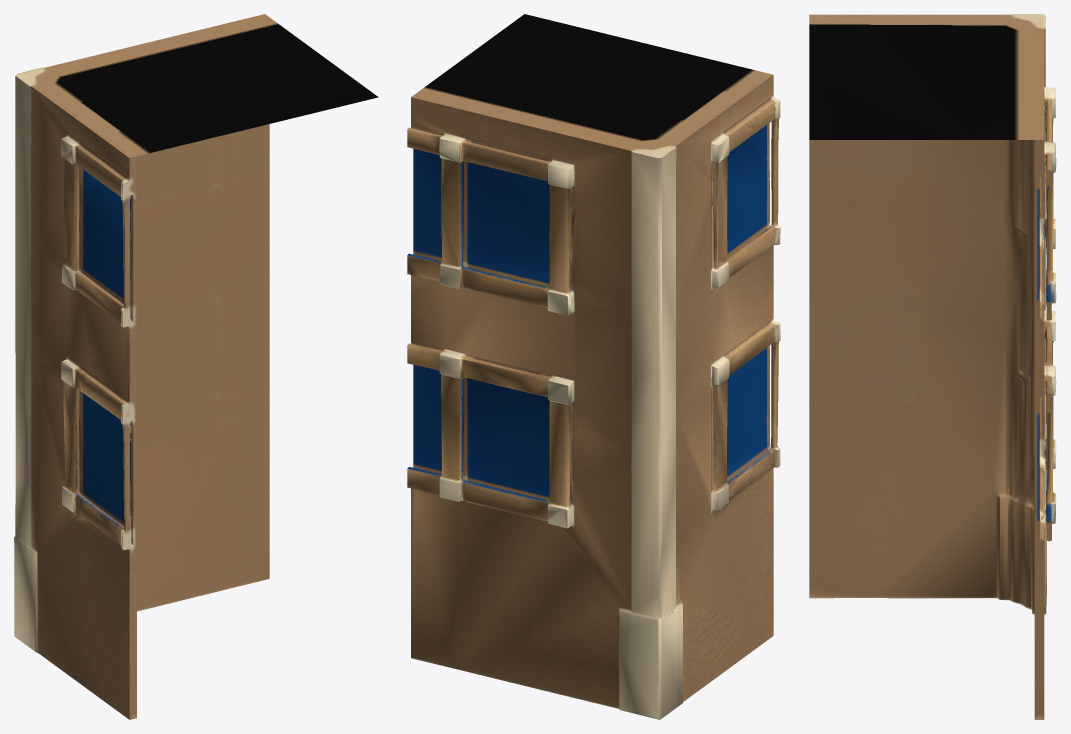
File: 3-ground-floor-back-left.fbx
The picture shows the model from 3 angles, left to right: view 1: azimuth 30°, elevation 25°; view 2: azimuth 150°, elevation 25°; view 3: azimuth 270°, elevation 25°; orthographic projection. The views are drawn at different scales.
Visible parts, largest first — view 1: ground-floor-back-left; view 2: ground-floor-back-left; view 3: ground-floor-back-left.
Boxes of the visible parts, box(x1,y1,x2,y2) form: ground-floor-back-left: box(14, 14, 378, 719); ground-floor-back-left: box(407, 14, 780, 719); ground-floor-back-left: box(809, 14, 1056, 719).
Size of the model in its own units: 4750 by 9952 by 3842.
1 material, 1 textured.
